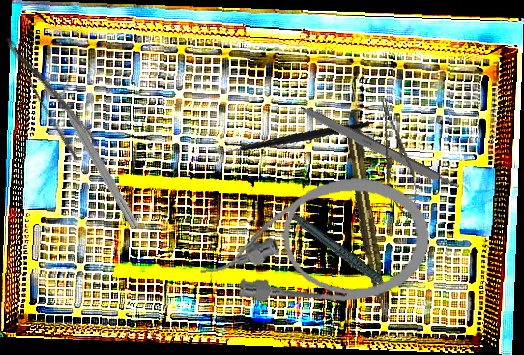Cannula: (193, 171, 435, 315)
Chopper: (216, 98, 370, 186)
Dressing Forceps: (2, 24, 101, 163)
Fixation Ring: (41, 68, 152, 232)
Handpiece: (289, 193, 399, 318), (343, 122, 393, 323)
Needle Holder: (369, 94, 425, 223)
Scalpel Handle: (297, 103, 461, 195)
